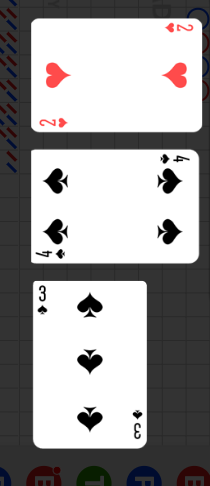2H: (163, 22, 194, 35)
3S: (130, 407, 144, 441)
4S: (34, 247, 67, 260)
